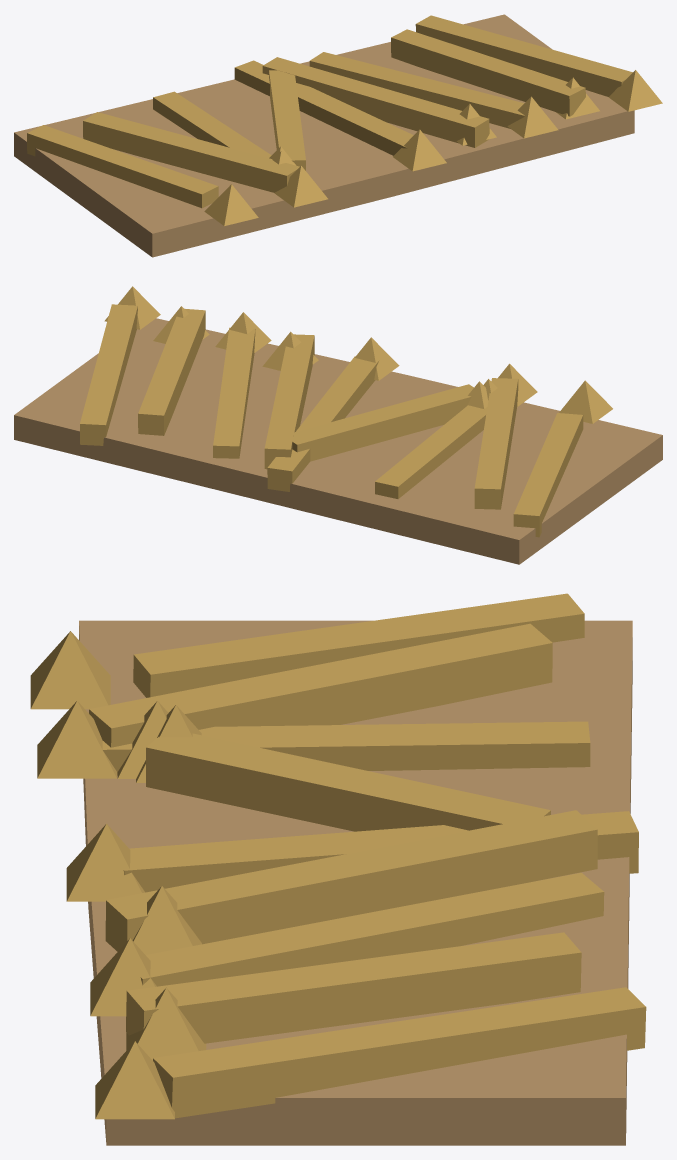
The model's file is work-row-swath.glb.
The picture shows the model from 3 angles, top to bottom: view 1: azimuth 30°, elevation 25°; view 2: azimuth 150°, elevation 25°; view 3: azimuth 270°, elevation 25°; orthographic projection. The views are drawn at different scales.
Parts seen in each view (by area): view 1: work-row-swath; view 2: work-row-swath; view 3: work-row-swath.
Part boxes in pixels (box(x1,y1,x2,y2)): work-row-swath: box(14, 14, 662, 257); work-row-swath: box(14, 286, 662, 564); work-row-swath: box(30, 593, 646, 1145).
Bounding box in the file's own units: 2.12 × 0.22 × 1.09.
1 material, 1 textured.
